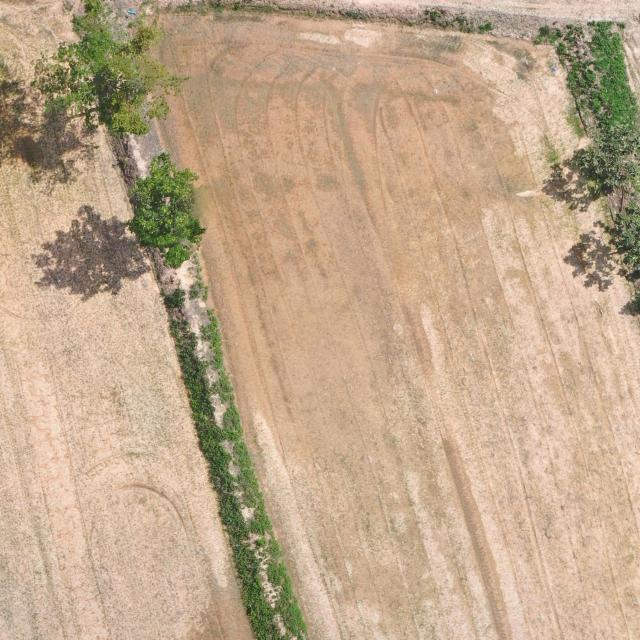Tree: (29, 0, 190, 137), (126, 152, 208, 270), (563, 123, 640, 196), (605, 194, 640, 272)
